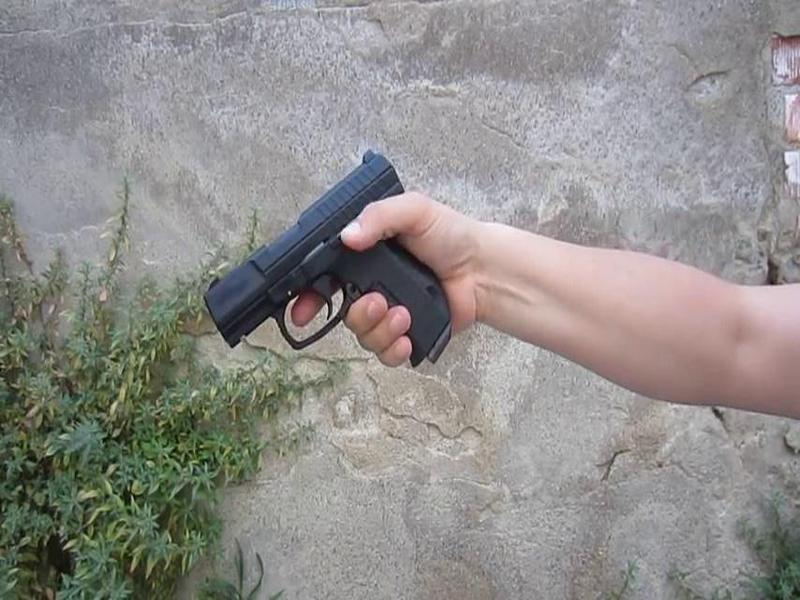Pistola: (163, 137, 458, 420)
